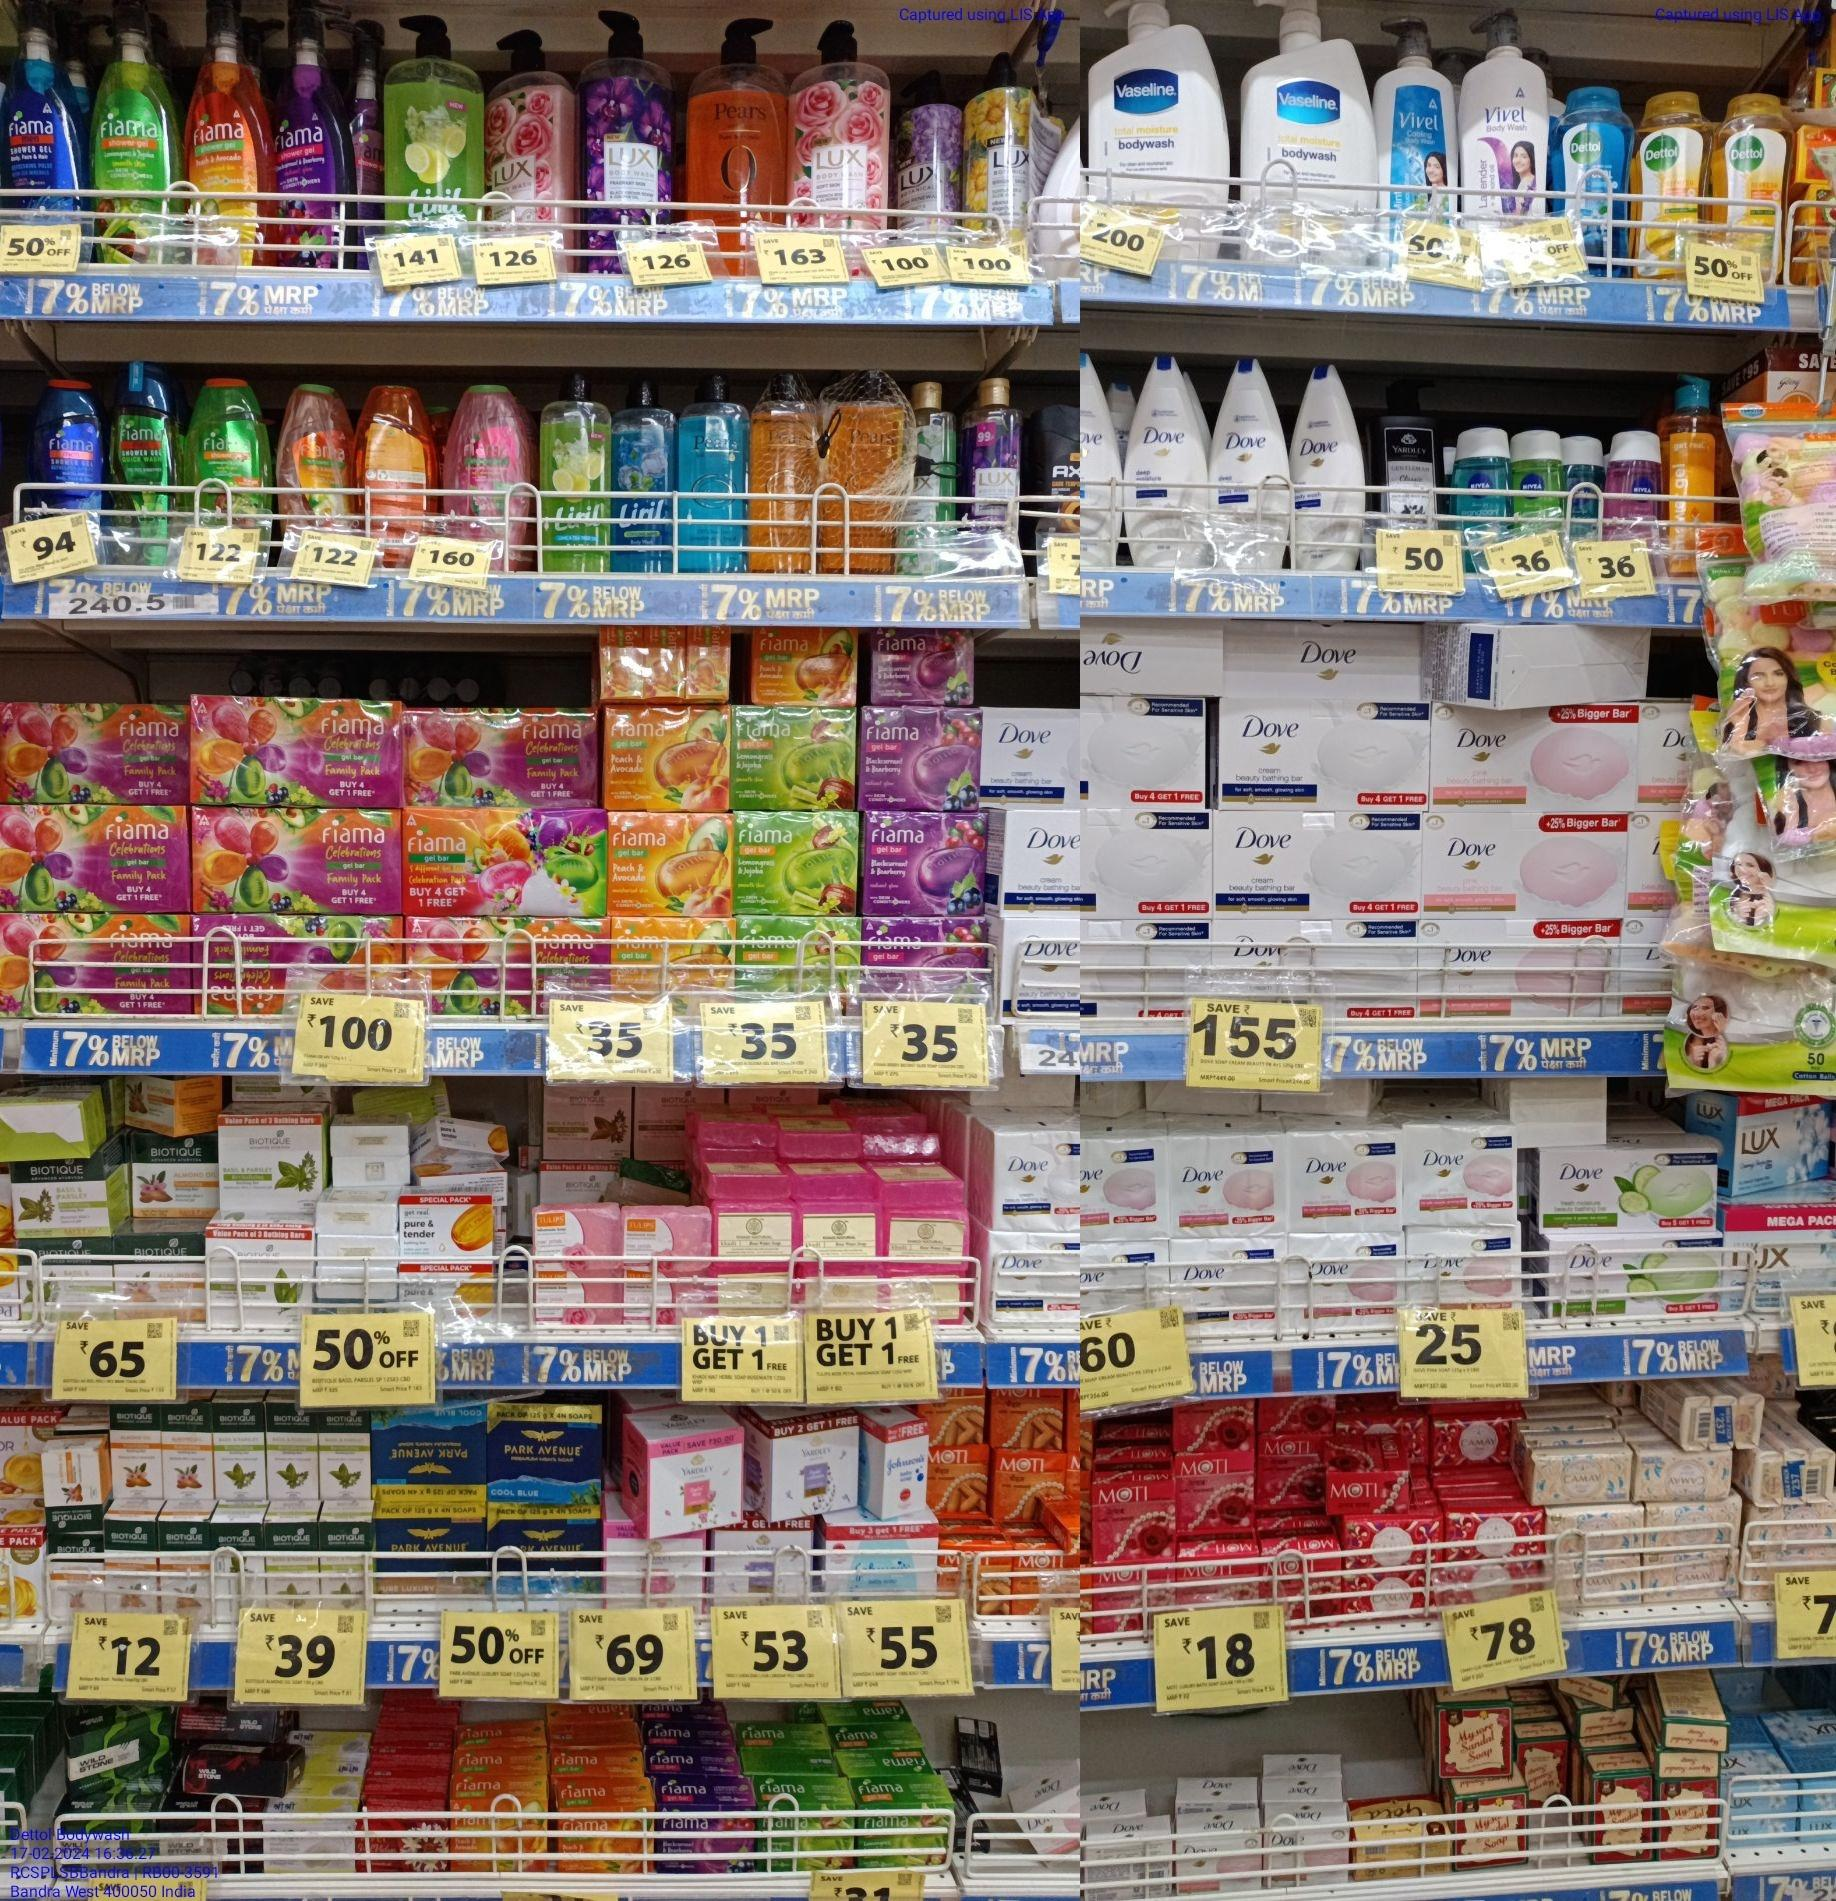Dettol_Bodywash_Cool: (1549, 87, 1629, 277)
Dettol_Bodywash_Refresh: (1634, 90, 1704, 280), (1714, 92, 1780, 277)
Dove_Deep_Moisture_Body_Wash_250ML: (1127, 351, 1210, 565), (1212, 358, 1290, 570), (1293, 362, 1363, 570)
Fiama_Shower_Gel_Lemongrass_and_Jojoba_250ML: (180, 377, 266, 524)
Fiama_Shower_Gel_Patchouli_and_Macadamia_250ML: (445, 385, 531, 548)
Fiama_Shower_Gel_Peach_and_Avocado_250ML: (282, 382, 358, 526)
Liril_Cooling_Mint_Body_Wash_250ML: (611, 370, 670, 572)
Liril_Lime_and_Tea_Tree_Oil_Body_Wash_250ML: (536, 370, 607, 574)
Lux_Black_Orchid_Scent_and_Juniper_Oil_Body_Wash_245ML: (966, 379, 1018, 528)
Pears_Pure_Glycerin_and_Mint_Extracts_Body_Wash_250ML: (677, 365, 743, 572)
